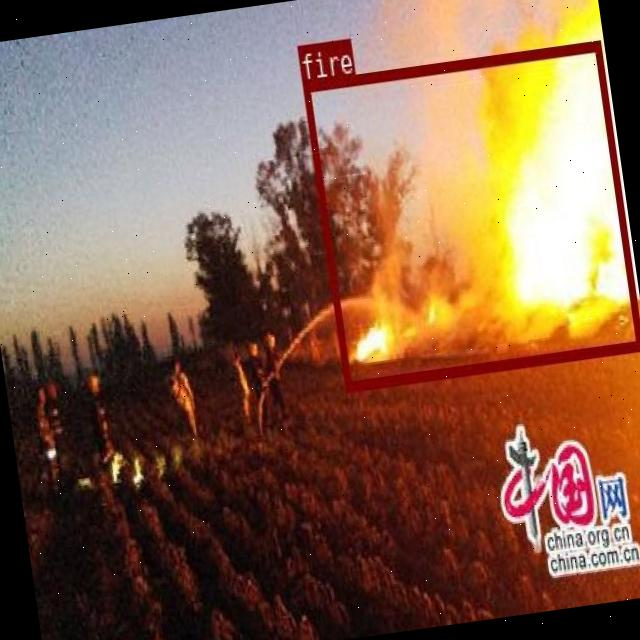fire: (302, 40, 640, 390)
